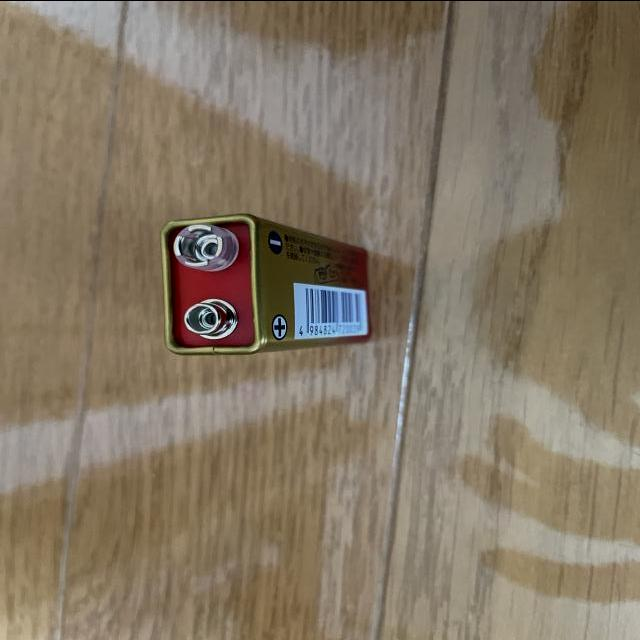9V: (161, 212, 373, 355)
